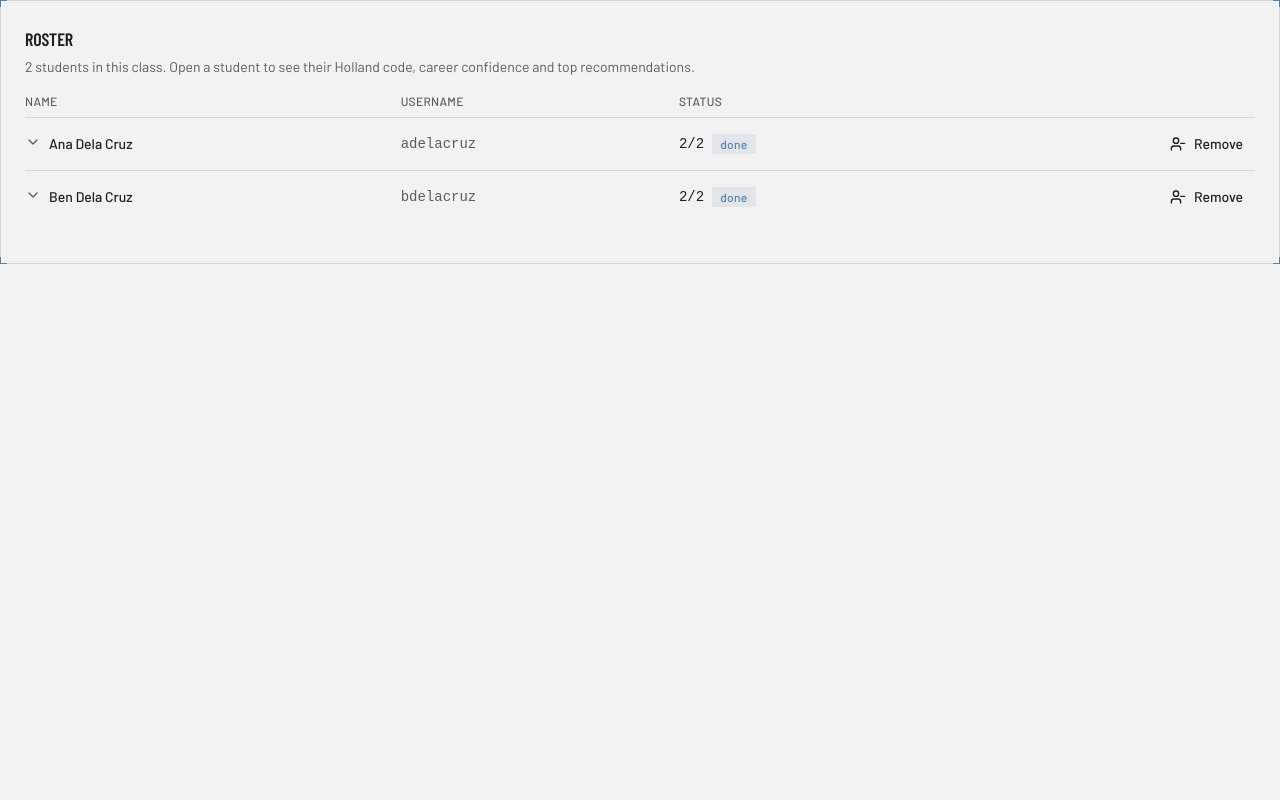
Test: RosterTable › opens a student into their Holland code, SCCT confidence and top five of each
This screenshot has width=1280, height=800.
Click the button "Ana Dela Cruz" at (79, 144), box 25,134 -> 132,154
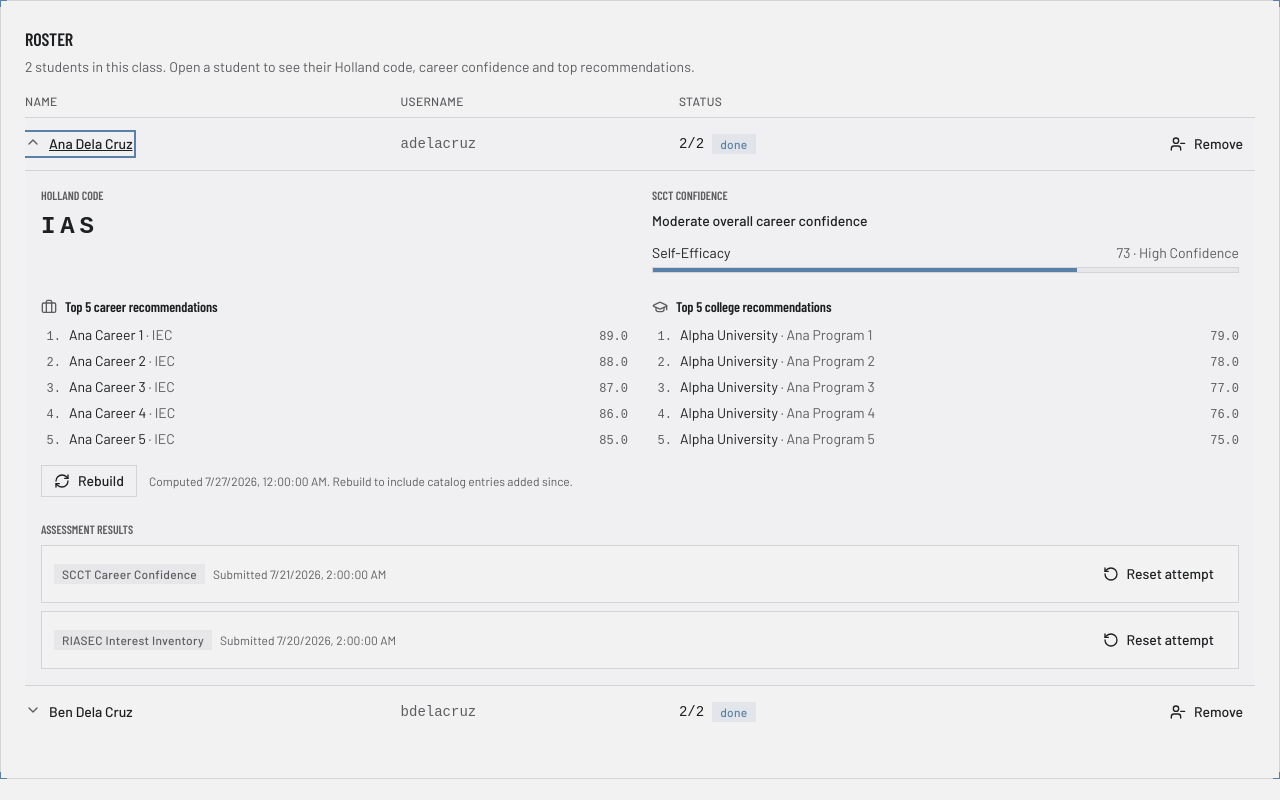
Now the button "Ana Dela Cruz" is expanded, box 25,134 -> 132,154
Now the text "IAS" is shown, box 41,213 -> 99,240
Now the text "Moderate overall career confidence" is shown, box 652,212 -> 868,229
